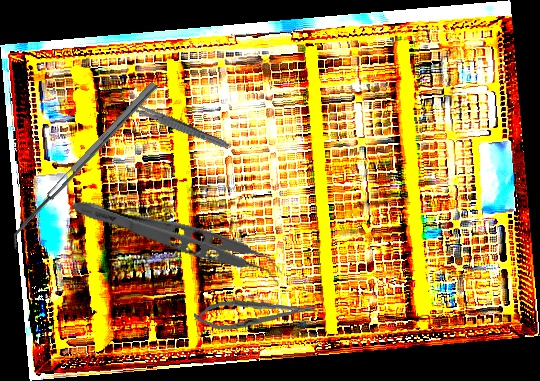Dressing Forceps: (122, 98, 231, 152)
Needle Holder: (193, 294, 317, 333)
Spatula Surgical: (4, 81, 165, 251)
Tissue Forceps: (66, 195, 288, 287)
